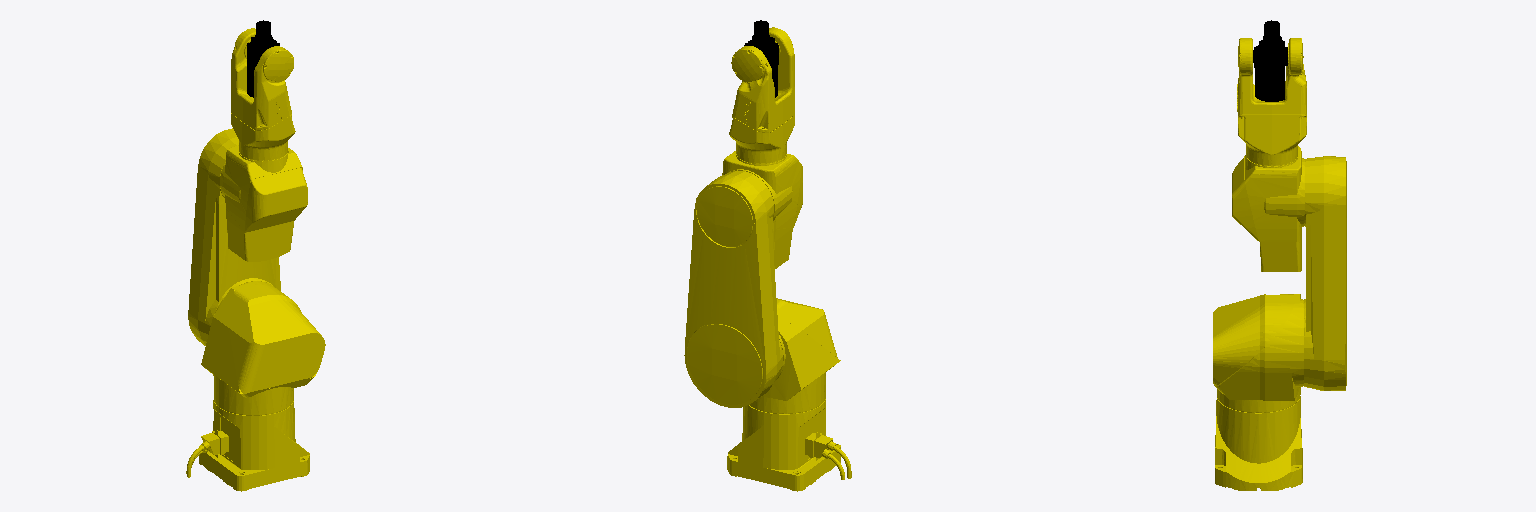
The robot description file, URDF, robot "staubli_rx170":
<?xml version="1.0" ?>
<!-- =================================================================================== -->
<!-- |    This document was autogenerated by xacro from rx170.xacro                    | -->
<!-- |    EDITING THIS FILE BY HAND IS NOT RECOMMENDED                                 | -->
<!-- =================================================================================== -->
<robot name="staubli_rx170" xmlns:xacro="http://ros.org/wiki/xacro">
  <link name="base_link">
    <visual>
      <geometry>
        <mesh filename="package://staubli_rx170_support/meshes/visual/base_link.dae"/>
      </geometry>
    </visual>
    <collision>
      <geometry>
        <mesh filename="package://staubli_rx170_support/meshes/collision/base_link.dae"/>
      </geometry>
    </collision>
  </link>
  <joint name="joint_1" type="revolute">
    <parent link="base_link"/>
    <child link="shoulder_link"/>
    <origin xyz="0 0 0.75"/>
    <axis xyz="0 0 1"/>
    <limit effort="1000" lower="-3.142" upper="3.142" velocity="2.705"/>
  </joint>
  <link name="shoulder_link">
    <visual>
      <geometry>
        <mesh filename="package://staubli_rx170_support/meshes/visual/shoulder_link.dae"/>
      </geometry>
    </visual>
    <collision>
      <geometry>
        <mesh filename="package://staubli_rx170_support/meshes/collision/shoulder_link.dae"/>
      </geometry>
    </collision>
  </link>
  <joint name="joint_2" type="revolute">
    <parent link="shoulder_link"/>
    <child link="arm_link"/>
    <origin xyz="0.1 0 0"/>
    <axis xyz="0 1 0"/>
    <limit effort="1000" lower="-2.094" upper="2.094" velocity="2.269"/>
  </joint>
  <link name="arm_link">
    <visual>
      <geometry>
        <mesh filename="package://staubli_rx170_support/meshes/visual/arm_link.dae"/>
      </geometry>
    </visual>
    <collision>
      <geometry>
        <mesh filename="package://staubli_rx170_support/meshes/collision/arm_link.dae"/>
      </geometry>
    </collision>
  </link>
  <joint name="joint_3" type="revolute">
    <parent link="arm_link"/>
    <child link="elbow_link"/>
    <origin xyz="0 0.07 0.85"/>
    <axis xyz="0 -1 0"/>
    <limit effort="1000" lower="-2.269" upper="2.269" velocity="3.578"/>
  </joint>
  <link name="elbow_link">
    <visual>
      <geometry>
        <mesh filename="package://staubli_rx170_support/meshes/visual/elbow_link.dae"/>
      </geometry>
    </visual>
    <collision>
      <geometry>
        <mesh filename="package://staubli_rx170_support/meshes/collision/elbow_link.dae"/>
      </geometry>
    </collision>
  </link>
  <joint name="joint_4" type="revolute">
    <parent link="elbow_link"/>
    <child link="forearm_link"/>
    <origin xyz="0 0 0"/>
    <axis xyz="0 0 1"/>
    <limit effort="1000" lower="-3.142" upper="3.142" velocity="4.136"/>
  </joint>
  <link name="forearm_link">
    <visual>
      <geometry>
        <mesh filename="package://staubli_rx170_support/meshes/visual/forearm_link.dae"/>
      </geometry>
    </visual>
    <collision>
      <geometry>
        <mesh filename="package://staubli_rx170_support/meshes/collision/forearm_link.dae"/>
      </geometry>
    </collision>
  </link>
  <joint name="joint_5" type="revolute">
    <parent link="forearm_link"/>
    <child link="wrist_link"/>
    <origin xyz="0 0 0.77"/>
    <axis xyz="0 1 0"/>
    <limit effort="1000" lower="-2.094" upper="2.094" velocity="2.635"/>
  </joint>
  <link name="wrist_link">
    <visual>
      <geometry>
        <mesh filename="package://staubli_rx170_support/meshes/visual/wrist_link.dae"/>
      </geometry>
    </visual>
    <collision>
      <geometry>
        <mesh filename="package://staubli_rx170_support/meshes/collision/wrist_link.dae"/>
      </geometry>
    </collision>
  </link>
  <joint name="joint_6" type="continuous">
    <parent link="wrist_link"/>
    <child link="grinder"/>
    <origin xyz="0 0 0.19798"/>
    <axis xyz="0 0 1"/>
  </joint>
  <link name="grinder">
    <visual>
      <geometry>
        <mesh filename="package://staubli_rx170_support/meshes/visual/grinder.dae"/>
      </geometry>
    </visual>
    <collision>
      <geometry>
        <mesh filename="package://staubli_rx170_support/meshes/collision/grinder.dae"/>
      </geometry>
    </collision>
  </link>
</robot>

--- Render facts (derived) ---
The picture shows the robot from 3 angles, left to right: view 1: azimuth 30°, elevation 25°; view 2: azimuth 150°, elevation 25°; view 3: azimuth 270°, elevation 25°; orthographic projection.
Robot: staubli_rx170 — 7 links, 6 joints (5 revolute, 1 continuous); root link base_link; default pose: every joint at zero.
Links seen in each view (by area): view 1: shoulder_link, elbow_link, arm_link, base_link, forearm_link, wrist_link; view 2: arm_link, base_link, forearm_link, shoulder_link, elbow_link, wrist_link; view 3: shoulder_link, arm_link, base_link, elbow_link, forearm_link, wrist_link.
Boxes of the visible links, left/top/right/bottom form: shoulder_link: left=201, top=281, right=325, bottom=415; elbow_link: left=220, top=145, right=307, bottom=261; arm_link: left=188, top=128, right=280, bottom=345; base_link: left=186, top=400, right=309, bottom=491; forearm_link: left=231, top=28, right=295, bottom=159; wrist_link: left=247, top=20, right=279, bottom=97; arm_link: left=684, top=170, right=782, bottom=407; base_link: left=727, top=399, right=851, bottom=491; forearm_link: left=729, top=27, right=794, bottom=162; shoulder_link: left=750, top=298, right=840, bottom=413; elbow_link: left=722, top=151, right=802, bottom=268; wrist_link: left=744, top=20, right=778, bottom=97; shoulder_link: left=1213, top=294, right=1303, bottom=412; arm_link: left=1304, top=156, right=1346, bottom=390; base_link: left=1215, top=396, right=1302, bottom=490; elbow_link: left=1232, top=146, right=1304, bottom=271; forearm_link: left=1237, top=38, right=1306, bottom=165; wrist_link: left=1253, top=20, right=1287, bottom=101.
Size in the robot's own frame: 0.7536 by 0.6895 by 2.57 metres.
7 mesh visuals loaded from 7 distinct referenced files (7 Collada DAE).